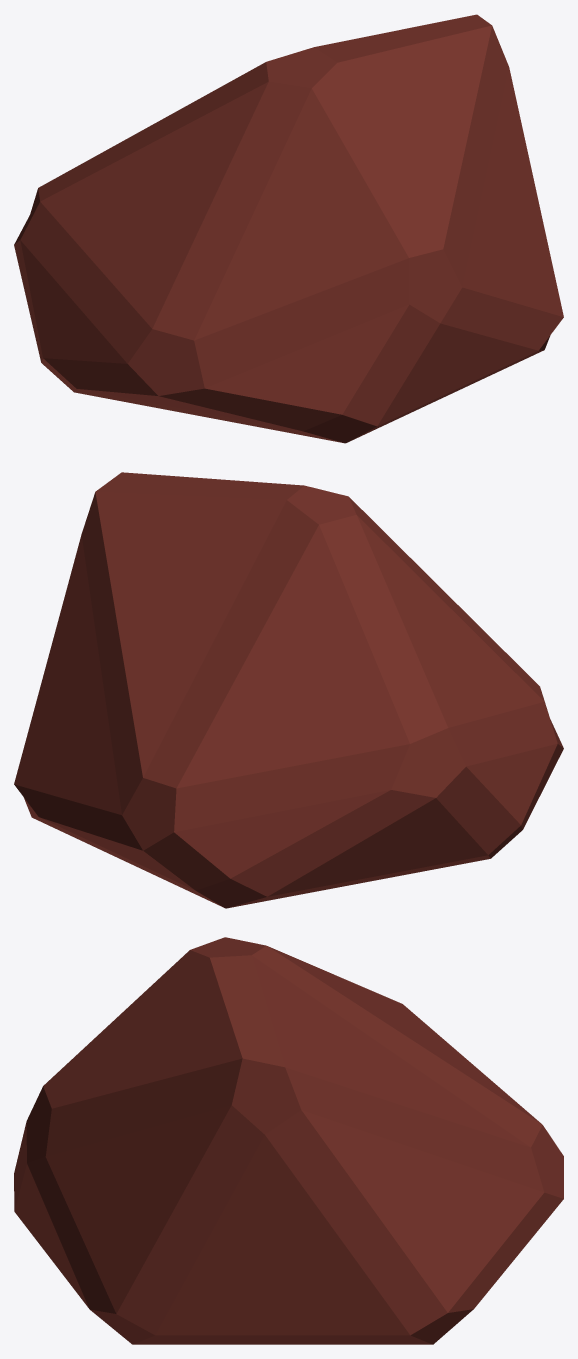
File: Stone_1_Red.fbx
3 views of the same model, one above another, from view 1: azimuth 30°, elevation 25°; view 2: azimuth 150°, elevation 25°; view 3: azimuth 270°, elevation 25° (orthographic). The views are drawn at different scales.
Parts seen in each view (by area): view 1: Stone_1_Red; view 2: Stone_1_Red; view 3: Stone_1_Red.
Part boxes in pixels (x1,y1,x2,y2): Stone_1_Red: [14, 14, 563, 443]; Stone_1_Red: [14, 472, 563, 908]; Stone_1_Red: [14, 937, 563, 1344].
Bounding box in the file's own units: 165 × 105 × 172.
